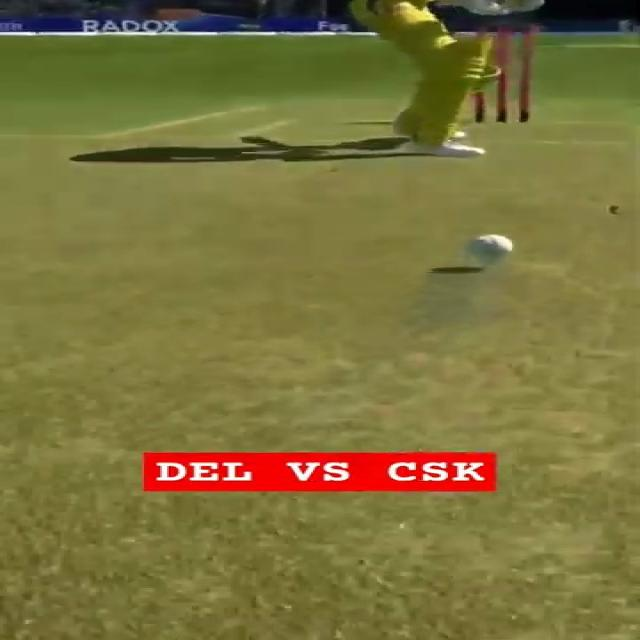ball: (460, 232, 514, 261)
